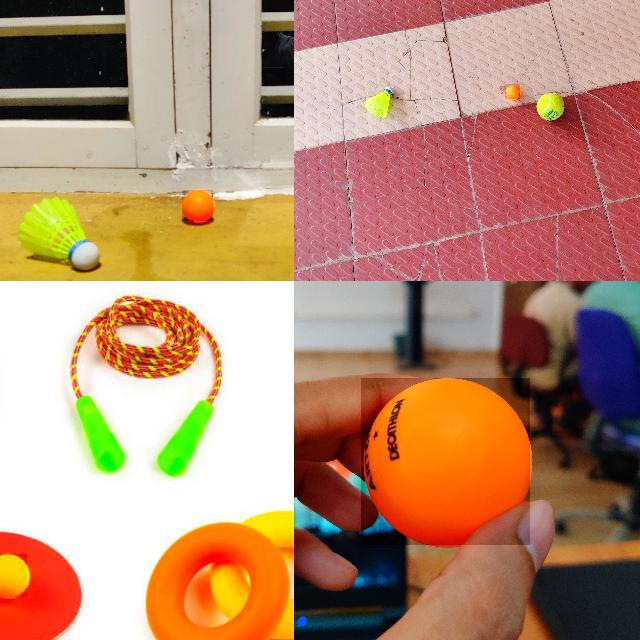ping-pong-ball: (361, 378, 531, 546), (0, 554, 29, 599), (182, 190, 214, 222), (505, 84, 521, 100)
